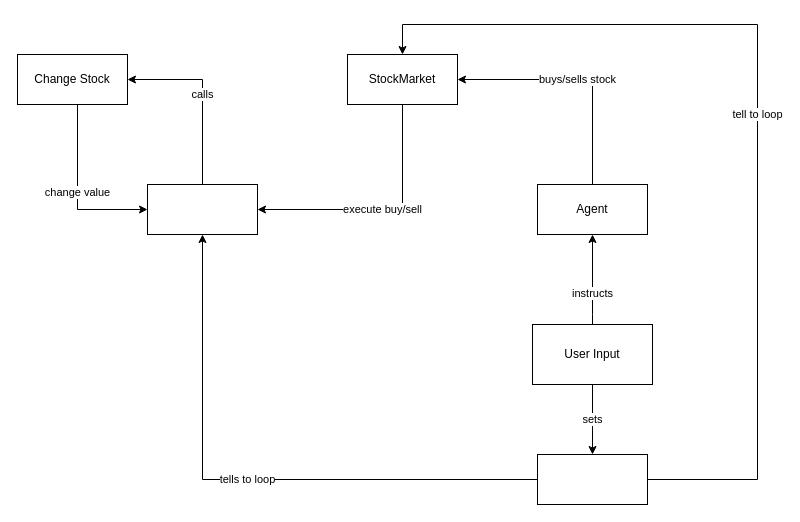
This 800x522 diagram has some shape labels left out. The shapes that lost their labels are listed below. From the top down, each one's centre as x and y in pixels, then its label:
At pixel 202 209: "Stock".
At pixel 592 479: "Wait Loop".
